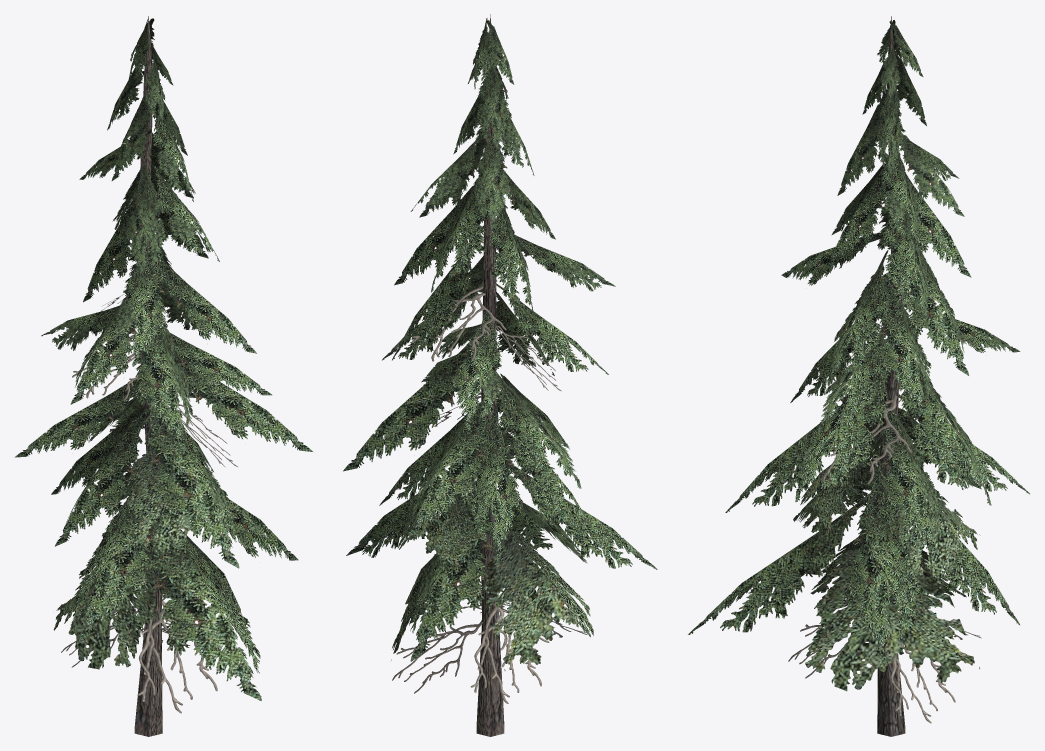
File: tree.obj
3 renders of one model, left to right at view 1: azimuth 30°, elevation 25°; view 2: azimuth 150°, elevation 25°; view 3: azimuth 270°, elevation 25°, orthographic.
Parts seen in each view (by area): view 1: HaloTrees2, HaloTrees1; view 2: HaloTrees2, HaloTrees1; view 3: HaloTrees2, HaloTrees1.
Part boxes in pixels (bbox=[...]): HaloTrees2: bbox=[14, 16, 312, 736]; HaloTrees1: bbox=[61, 294, 237, 713]; HaloTrees2: bbox=[343, 14, 657, 736]; HaloTrees1: bbox=[392, 282, 587, 703]; HaloTrees2: bbox=[688, 16, 1029, 736]; HaloTrees1: bbox=[788, 295, 981, 723].
Size of what is drawn, in the model's own units: 161 by 415 by 180.
